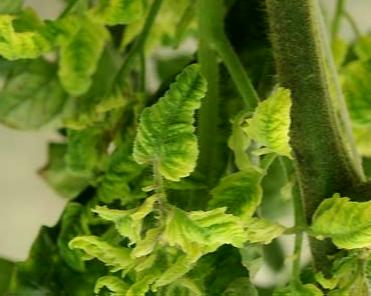Tomato leaf yellow virus: (133, 60, 222, 197), (240, 59, 304, 182), (173, 193, 280, 251), (311, 196, 371, 261)
